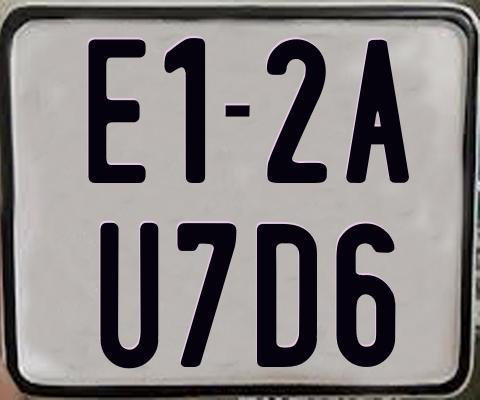1: (162, 36, 204, 183)
2: (264, 36, 324, 184)
6: (334, 220, 395, 364)
7: (174, 221, 239, 371)
A: (345, 37, 409, 184)
D: (257, 222, 317, 370)
E: (88, 39, 152, 185)
U: (99, 222, 163, 367)
